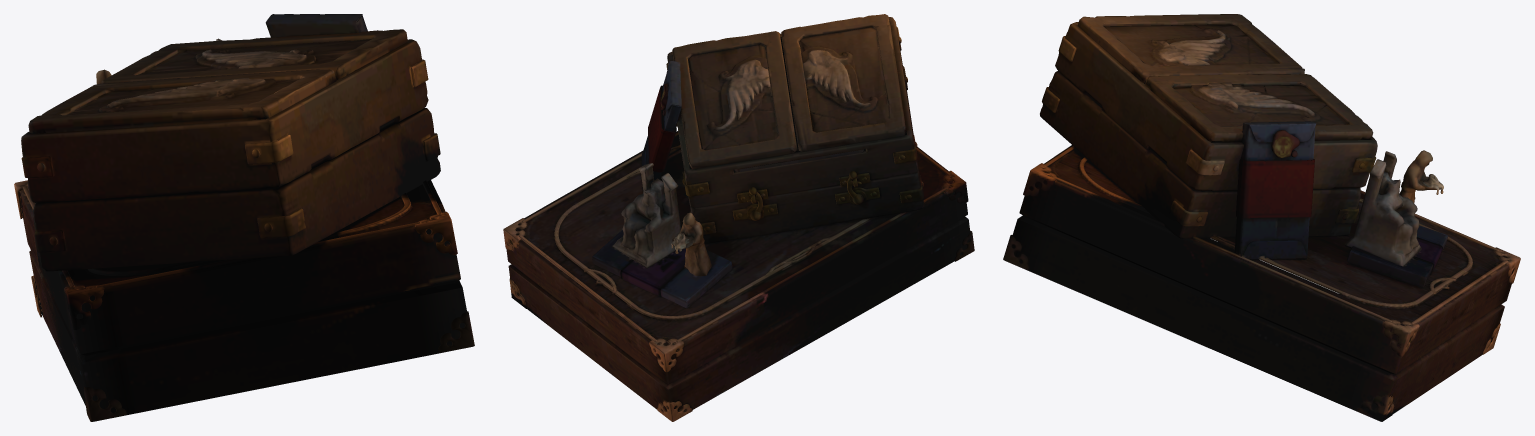
3 renders of one model, left to right at view 1: azimuth 30°, elevation 25°; view 2: azimuth 150°, elevation 25°; view 3: azimuth 270°, elevation 25°, orthographic. The views are drawn at different scales.
Visible parts, largest first — view 1: models/ui/muerta_ofrenda/muerta_ofrenda_boxes.vmdl_c.ofrenda; view 2: models/ui/muerta_ofrenda/muerta_ofrenda_boxes.vmdl_c.ofrenda; view 3: models/ui/muerta_ofrenda/muerta_ofrenda_boxes.vmdl_c.ofrenda.
Part boxes in pixels (x1,y1,x2,y2): models/ui/muerta_ofrenda/muerta_ofrenda_boxes.vmdl_c.ofrenda: (14,14,474,421); models/ui/muerta_ofrenda/muerta_ofrenda_boxes.vmdl_c.ofrenda: (503,14,974,421); models/ui/muerta_ofrenda/muerta_ofrenda_boxes.vmdl_c.ofrenda: (1003,14,1520,421).
Size of the model in its own units: 3.32 by 2.56 by 3.82.
